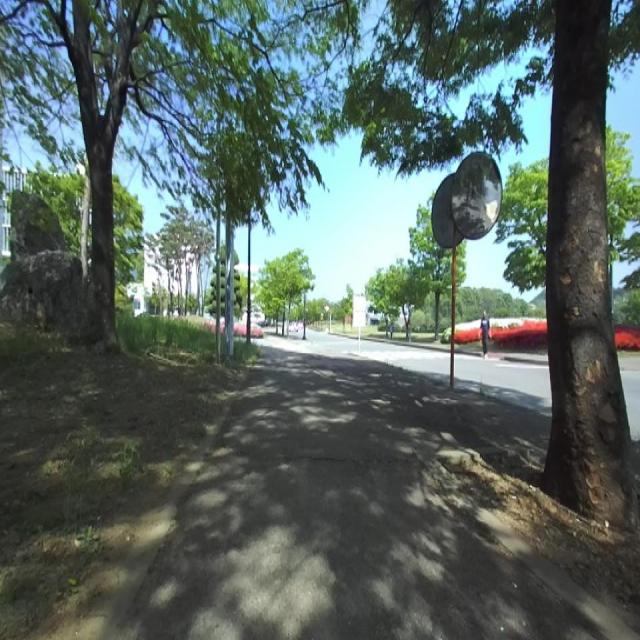sidewalk: (116, 345, 609, 640)
